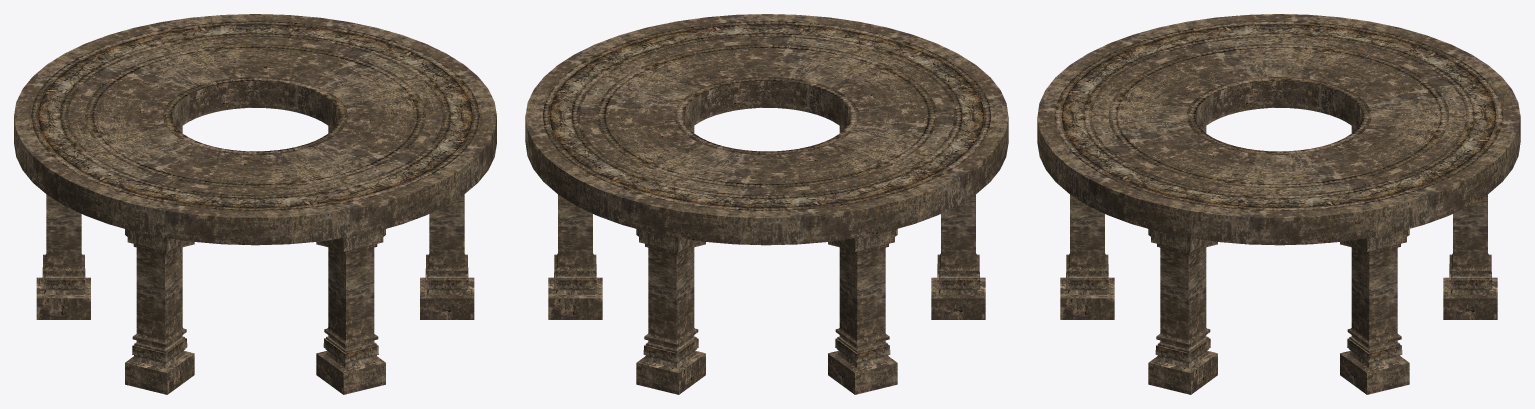
The model's file is materials_5_table_3.fbx.
3 views of the same model, side by side, from view 1: azimuth 30°, elevation 25°; view 2: azimuth 150°, elevation 25°; view 3: azimuth 270°, elevation 25° (orthographic).
Visible parts, largest first — view 1: materials_5_table_3; view 2: materials_5_table_3; view 3: materials_5_table_3.
Part boxes in pixels (bbox=[...]): materials_5_table_3: bbox=[14, 14, 496, 394]; materials_5_table_3: bbox=[525, 14, 1008, 394]; materials_5_table_3: bbox=[1037, 14, 1520, 394].
Size of the model in its own units: 171 by 75.8 by 171.
